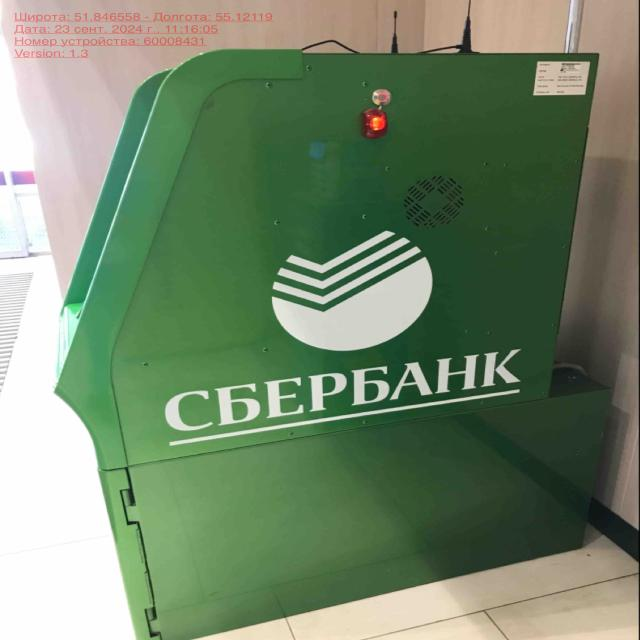bank: (61, 42, 640, 640)
